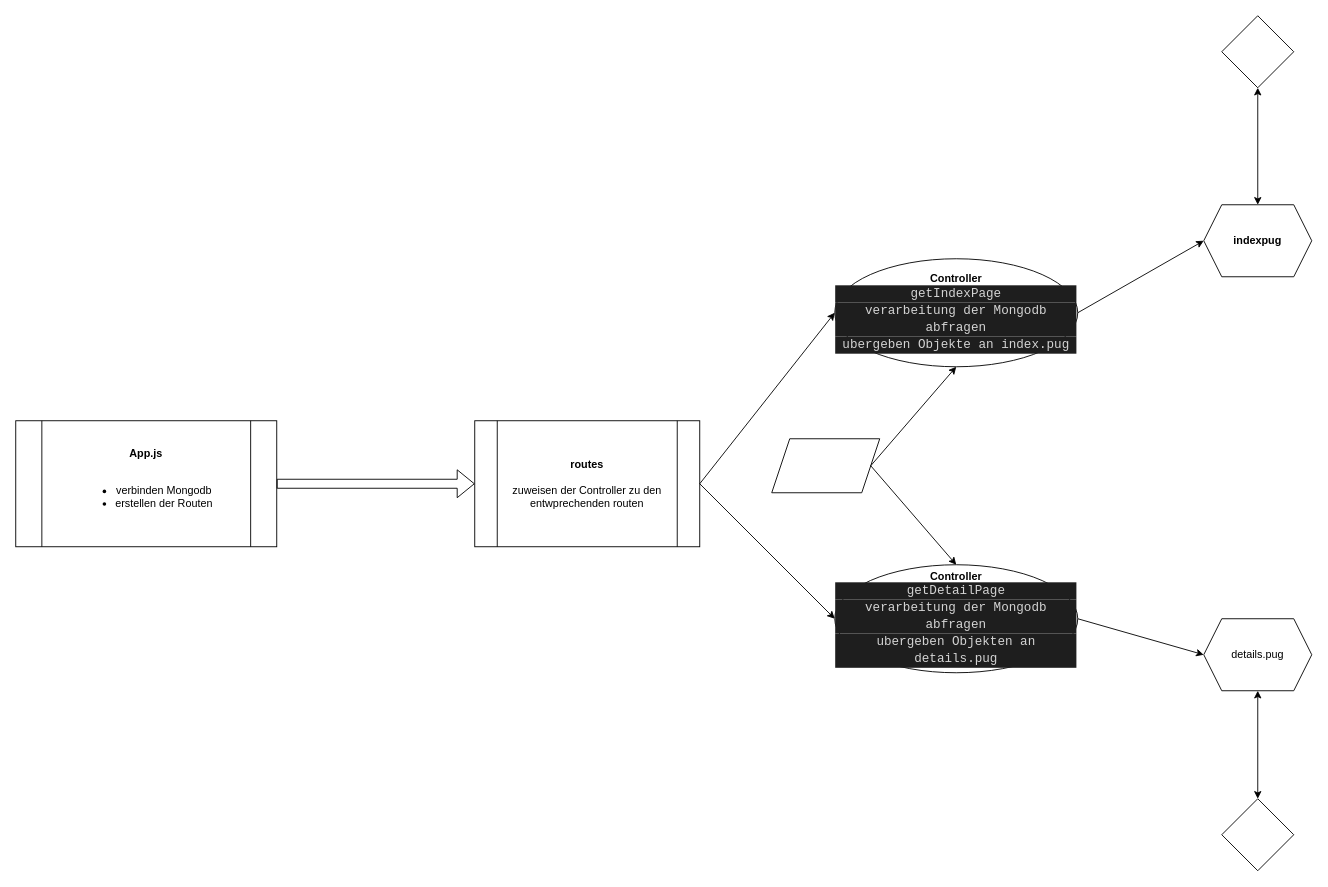
Some shapes in this 1328 by 887 pixel diagram are drawn without their labels. The box of each missing label's shape, as (x1, y1, x2, y2) in pixels:
Javascripts: (1221, 798, 1294, 871)
Jvascripts: (1221, 15, 1294, 88)
Modell Mongodb Schema: (771, 438, 880, 493)
